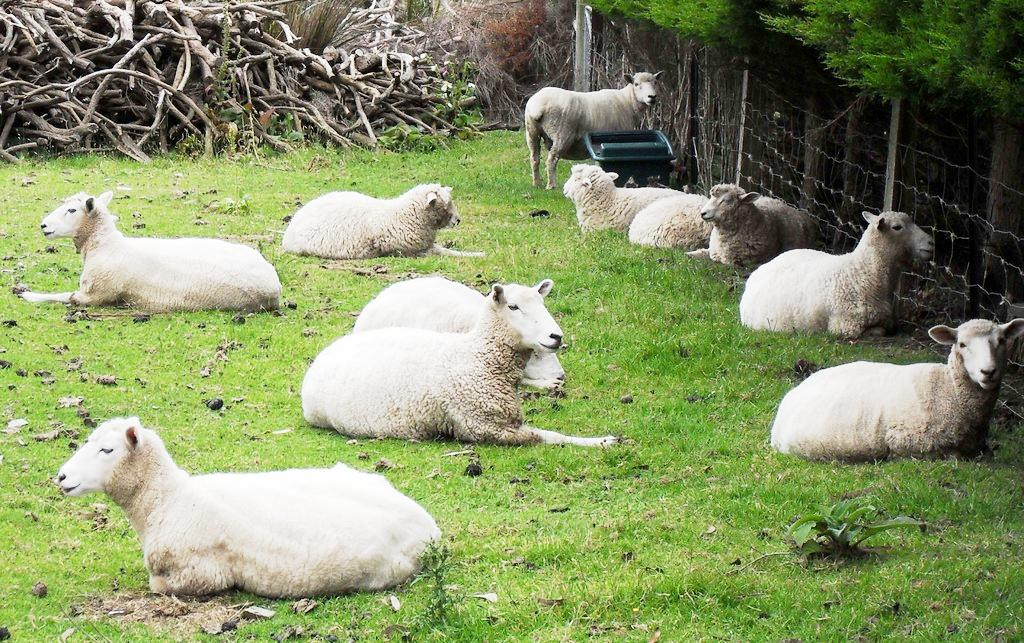Sheep: (46, 412, 454, 619), (304, 280, 622, 458), (20, 167, 284, 331), (757, 312, 1024, 473), (342, 259, 574, 396), (492, 40, 676, 192), (729, 213, 940, 344), (270, 166, 495, 271), (550, 164, 691, 231), (698, 184, 824, 255), (626, 177, 742, 249)
